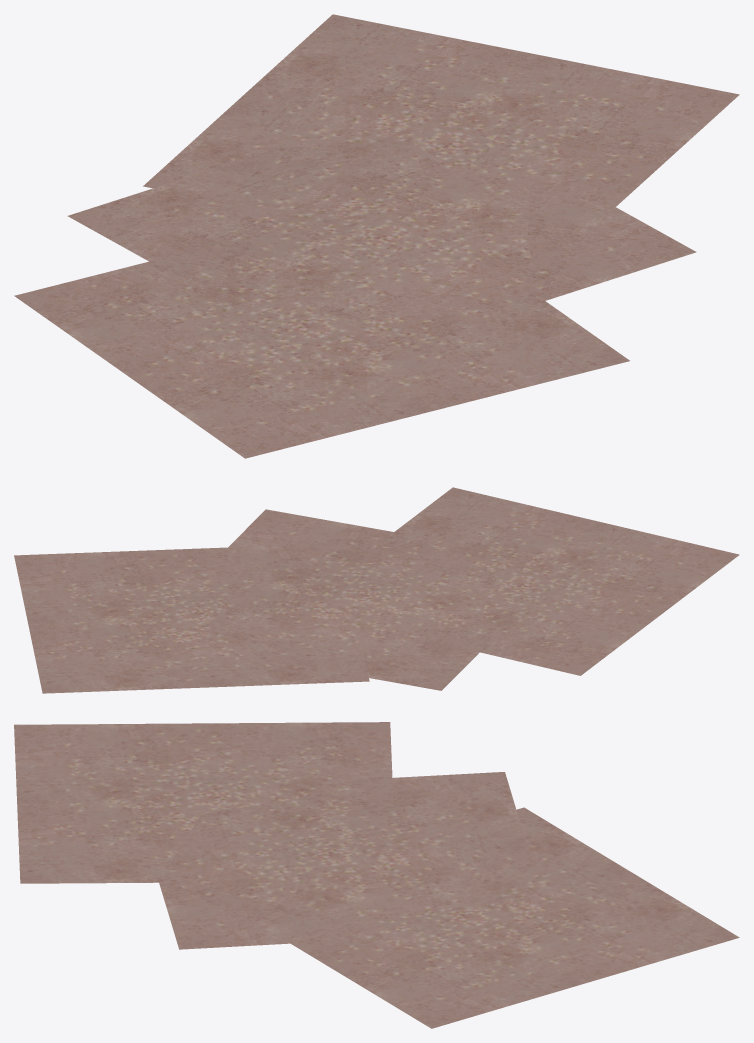
File: bg_anh_tree_cherryblossomtree01e_sm_ysi.FBX
3 renders of one model, top to bottom at view 1: azimuth 30°, elevation 25°; view 2: azimuth 150°, elevation 25°; view 3: azimuth 270°, elevation 25°, orthographic. The views are drawn at different scales.
Parts seen in each view (by area): view 1: bg_anh_tree_cherryblossomtree01e_sm_ysi; view 2: bg_anh_tree_cherryblossomtree01e_sm_ysi; view 3: bg_anh_tree_cherryblossomtree01e_sm_ysi.
Boxes of the visible parts, x1,y1,x2,y2 form: bg_anh_tree_cherryblossomtree01e_sm_ysi: (14, 14, 739, 458); bg_anh_tree_cherryblossomtree01e_sm_ysi: (14, 487, 739, 693); bg_anh_tree_cherryblossomtree01e_sm_ysi: (14, 722, 739, 1028).
Size of the model in its own units: 494 by 2.56 by 494.
